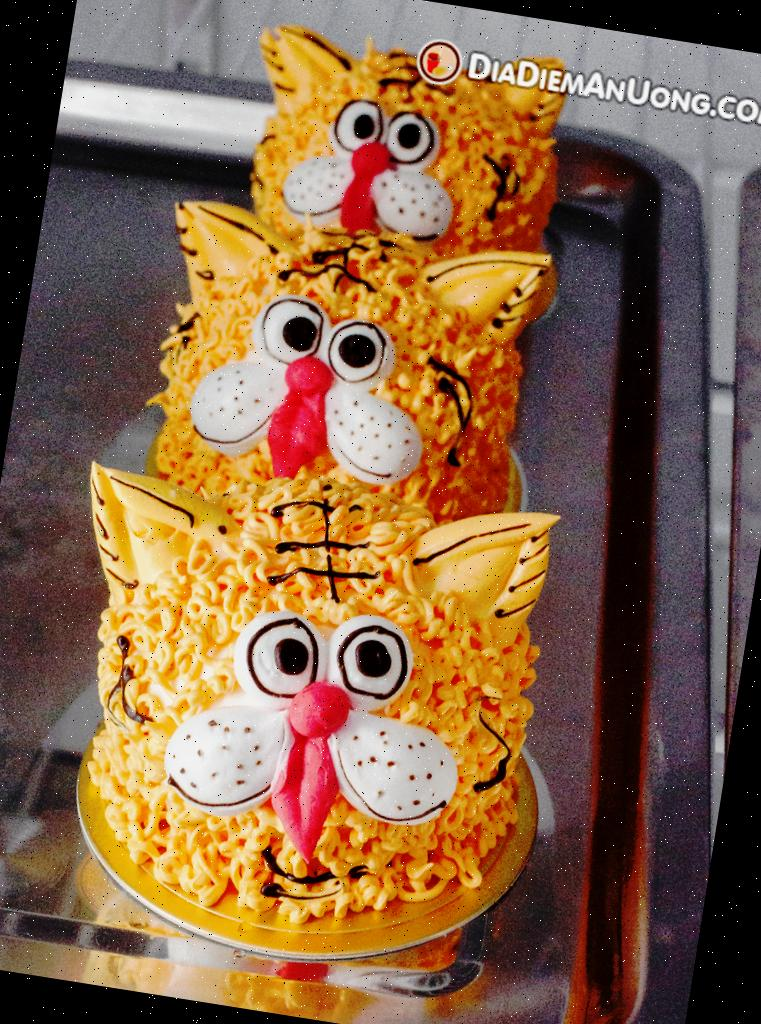Owl: (24, 448, 577, 960), (107, 180, 582, 570), (229, 8, 588, 320)
